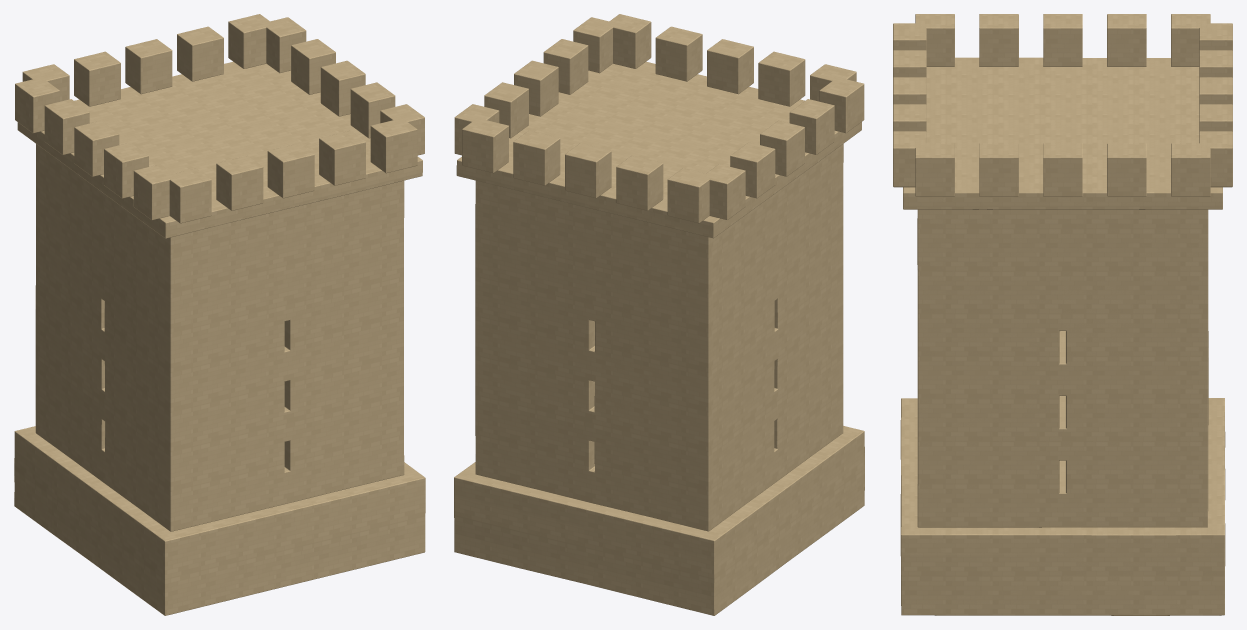
File: w_tower_big.glb
3 renders of one model, left to right at view 1: azimuth 30°, elevation 25°; view 2: azimuth 150°, elevation 25°; view 3: azimuth 270°, elevation 25°, orthographic. The views are drawn at different scales.
Visible parts, largest first — view 1: tower_big; view 2: tower_big; view 3: tower_big.
Boxes of the visible parts, x1=… form: tower_big: x1=14, y1=14, x2=425, y2=615; tower_big: x1=454, y1=14, x2=864, y2=615; tower_big: x1=893, y1=14, x2=1232, y2=615.
Size of the model in its own units: 15.2 by 22.81 by 15.2.
Materials: 1 (1 with a texture image).
